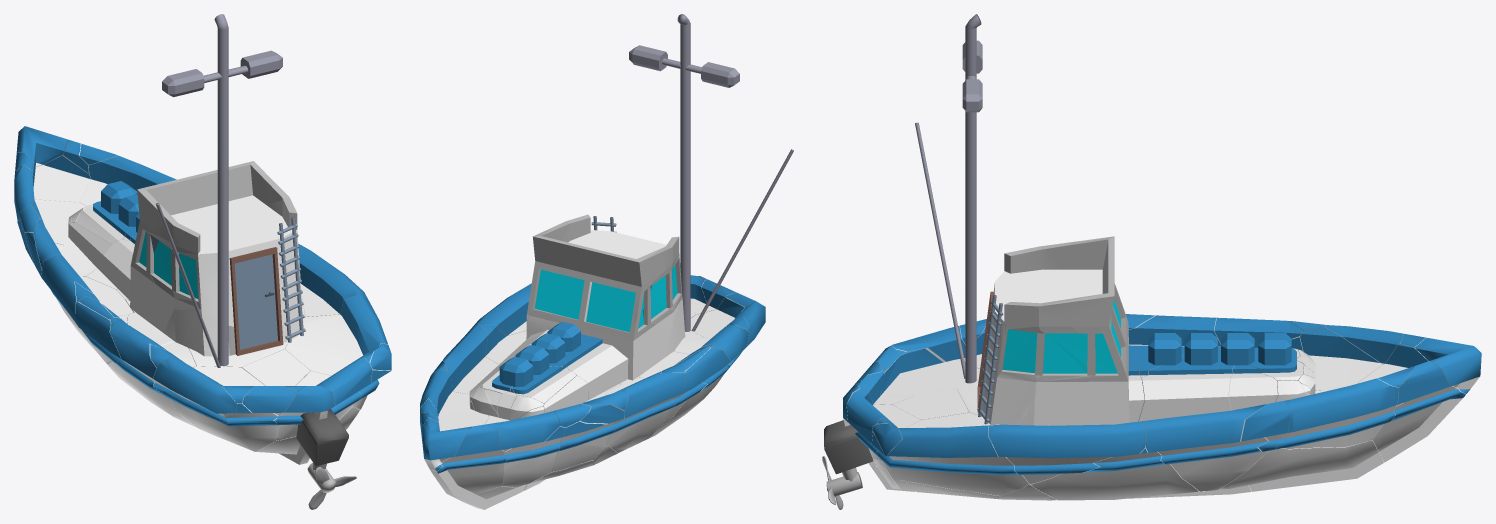
The model's file is FragmentedBoat_Colored_cell_old.fbx.
3 views of the same model, side by side, from view 1: azimuth 30°, elevation 25°; view 2: azimuth 150°, elevation 25°; view 3: azimuth 270°, elevation 25° (orthographic). The views are drawn at different scales.
Parts seen in each view (by area): view 1: pCube1.001, pCube11.001, pCylinder1.037_cell.052, pCube1.001_cell.010, pCylinder1.037_cell.073, pCylinder1.037_cell.040, pCylinder1.037_cell.020, pCube1.001_cell.011, pCylinder1.037_cell.014, pCylinder1.037_cell.008, pCylinder1.037_cell.042, pCylinder1.037_cell.062 (+27 smaller); view 2: pCube1.001, pCube11.001, pCylinder1.037_cell.014, pCylinder1.037_cell.042, pCube2.001_cell.023, pCylinder1.037_cell.030, pCylinder1.037_cell.004, pCylinder1.037_cell.008, pCylinder1.037_cell.047, pCylinder1.037_cell.031, pCylinder1.037_cell.049, pCylinder1.037_cell.035 (+28 smaller); view 3: pCube1.001, pCylinder1.037_cell.052, pCylinder1.037_cell.004, pCylinder1.037_cell.020, pCylinder1.037_cell.008, pCube11.001, pCylinder1.037_cell.071, pCylinder1.037_cell.034, pCube2.001_cell.009, pCylinder1.037_cell.042, pCylinder1.037_cell.030, pCylinder1.037_cell.073 (+22 smaller).
Boxes of the visible parts, x1,y1,x2,y2 form: pCube1.001: (130,161,302,356); pCube11.001: (156,14,282,367); pCylinder1.037_cell.052: (285,294,390,409); pCube1.001_cell.010: (198,232,285,332); pCylinder1.037_cell.073: (171,366,278,451); pCylinder1.037_cell.040: (153,357,236,423); pCylinder1.037_cell.020: (298,244,367,316); pCube1.001_cell.011: (163,309,276,356); pCylinder1.037_cell.014: (41,256,133,356); pCylinder1.037_cell.008: (80,155,176,205); pCylinder1.037_cell.042: (31,155,91,202); pCylinder1.037_cell.062: (110,321,196,394); pCube1.001: (526,214,682,380); pCube11.001: (629,14,793,331); pCylinder1.037_cell.014: (605,371,685,452); pCylinder1.037_cell.042: (430,450,506,504); pCube2.001_cell.023: (563,334,628,400); pCylinder1.037_cell.030: (484,416,565,487); pCylinder1.037_cell.004: (442,324,498,394); pCylinder1.037_cell.008: (420,368,488,431); pCylinder1.037_cell.047: (552,420,615,471); pCylinder1.037_cell.031: (492,411,559,451); pCylinder1.037_cell.049: (662,348,730,424); pCylinder1.037_cell.035: (422,417,472,471); pCube1.001: (978,236,1129,425); pCylinder1.037_cell.052: (872,412,1028,495); pCylinder1.037_cell.004: (1145,404,1268,491); pCylinder1.037_cell.020: (988,421,1146,484); pCylinder1.037_cell.008: (1275,378,1398,449); pCube11.001: (915,14,982,383); pCylinder1.037_cell.071: (1031,446,1198,500); pCylinder1.037_cell.034: (1218,390,1383,491); pCube2.001_cell.009: (1138,349,1234,421); pCylinder1.037_cell.042: (1358,343,1465,462); pCylinder1.037_cell.030: (1300,327,1382,390); pCylinder1.037_cell.073: (880,348,977,396).
Bounding box in the file's own units: 154 × 268 × 333.
